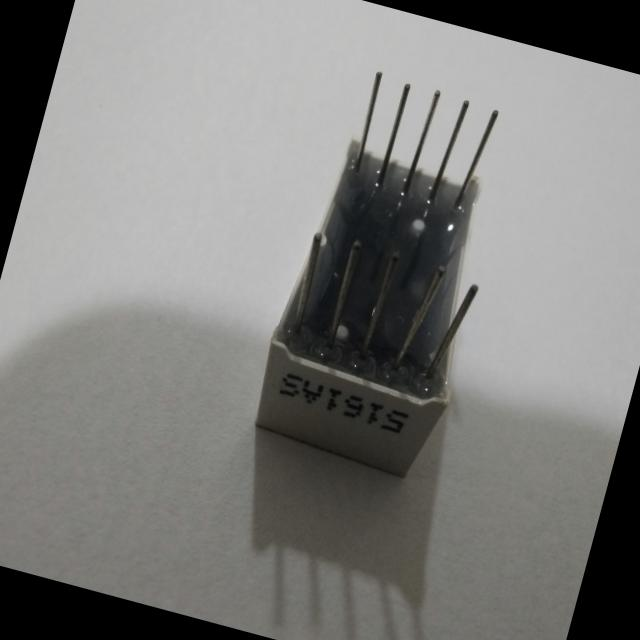7_segments: (227, 42, 549, 506)
